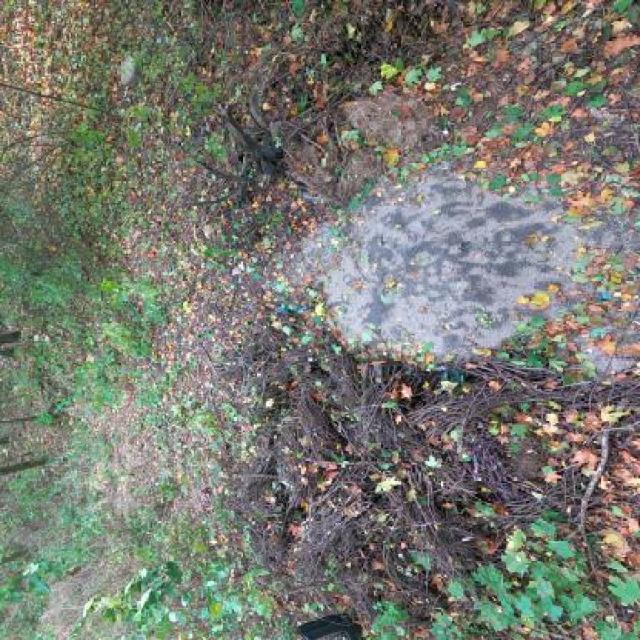Garbage: (0, 223, 38, 273), (329, 327, 366, 353), (434, 216, 449, 234), (585, 225, 598, 243), (453, 450, 466, 460), (435, 208, 449, 217)
